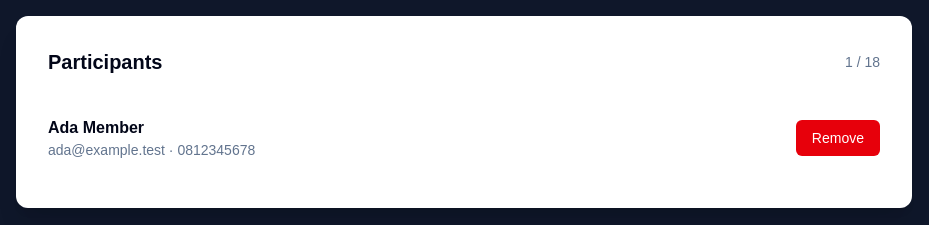
Test: lets an admin remove a participant from the list
Click the button "Remove" at (838, 138), box [796,120,880,156]
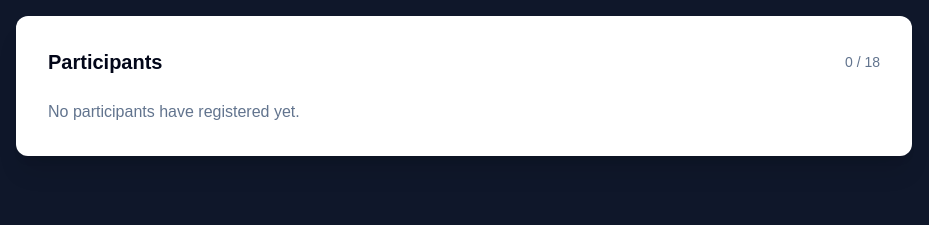
Expected: the text "No participants have registered yet." is shown, [48,103,300,120]
Expected: the text "0 / 18" is shown, [845,52,880,72]
